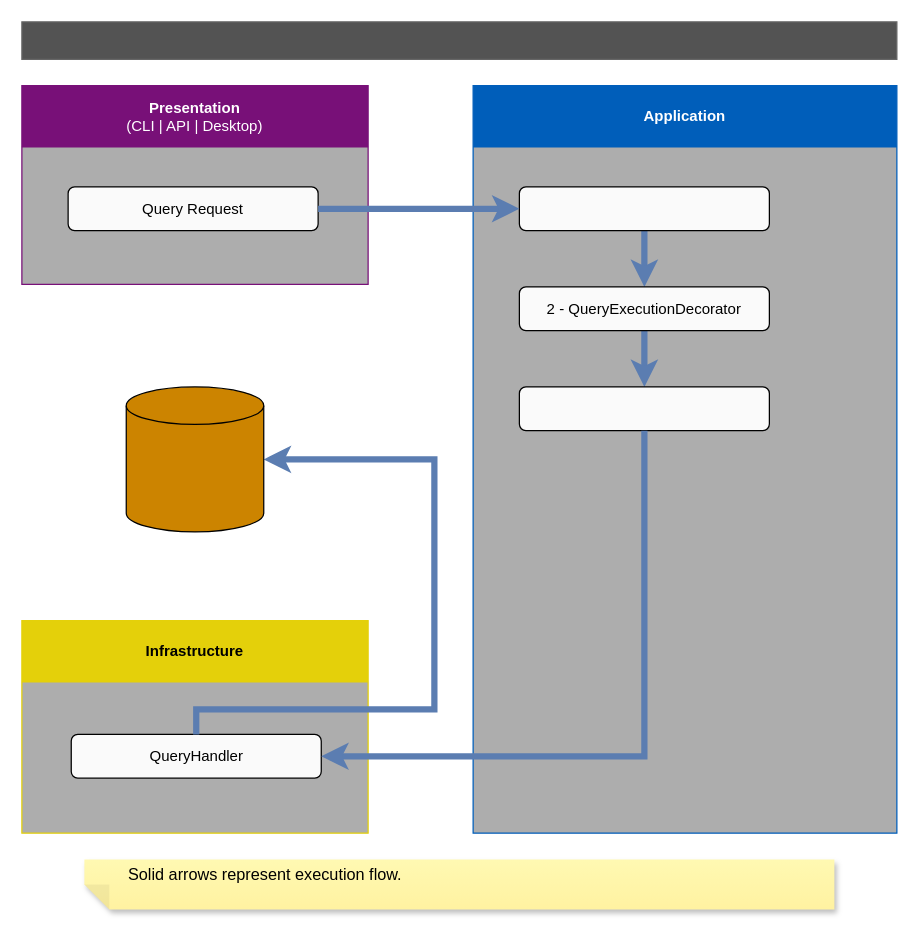
Image size: 919x940. Some labels were removed from this diagram. Each missing label, with the centre of its shape:
1 - QueryDispatcher: (x=643, y=208)
3 - QueryValidationDecorator: (x=643, y=408)
Application Query Pipeline: (x=459, y=40)
Database (SQLite): (x=194, y=459)
